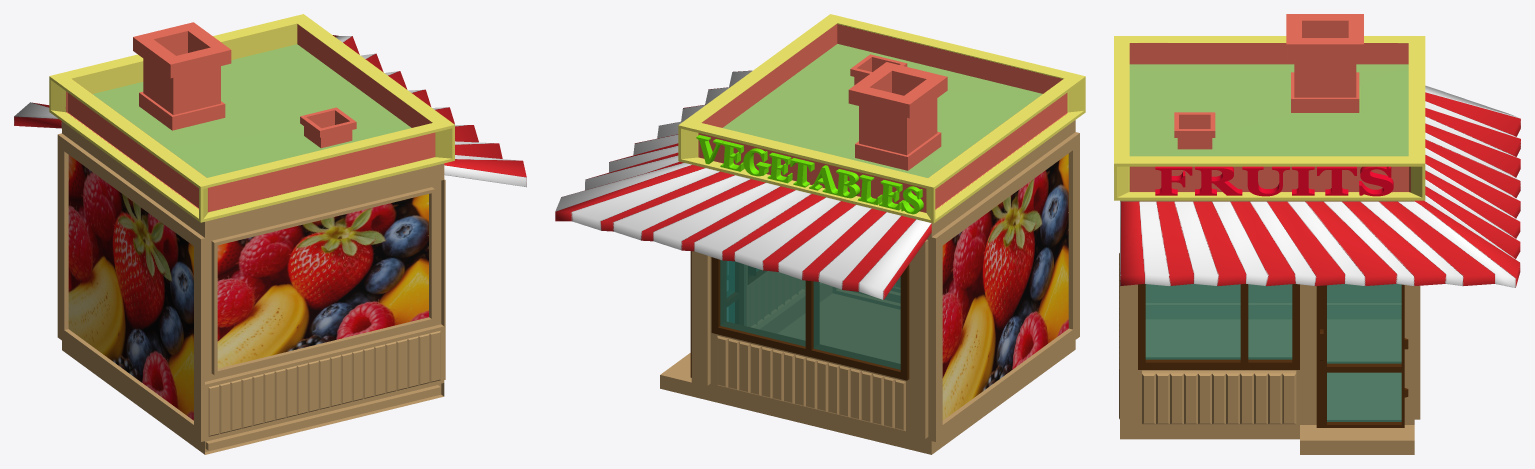
File: sf_kiosk_b.glb
3 views of the same model, side by side, from view 1: azimuth 30°, elevation 25°; view 2: azimuth 150°, elevation 25°; view 3: azimuth 270°, elevation 25° (orthographic). The views are drawn at different scales.
Visible parts, largest first — view 1: object 1, object 3, Plane002, Plane001, object 6; view 2: object 1, object 3, object 6, Plane001, object 4, object 2, Text002, object 5; view 3: object 1, object 6, object 3, object 4, Text001, object 2, object 5.
Part boxes in pixels (box(x1,y1,x2,y2)): object 1: box(49, 14, 454, 222); object 3: box(57, 121, 445, 454); Plane002: box(217, 194, 428, 368); Plane001: box(68, 155, 193, 420); object 6: box(14, 35, 526, 187); object 1: box(678, 14, 1085, 223); object 3: box(660, 120, 1079, 454); object 6: box(555, 70, 931, 299); Plane001: box(942, 153, 1068, 420); object 4: box(720, 260, 900, 369); object 2: box(711, 257, 909, 380); Text002: box(696, 135, 923, 214); object 5: box(690, 251, 743, 377); object 1: box(1114, 14, 1425, 200); object 6: box(1120, 85, 1520, 287); object 3: box(1119, 200, 1420, 454); object 4: box(1145, 284, 1401, 421); Text001: box(1155, 166, 1393, 196); object 2: box(1138, 284, 1299, 369); object 5: box(1316, 284, 1408, 427).
Size of the model in its own units: 0.0455 by 0.0412 by 0.0463.
Materials: 8 (3 with a texture image).
